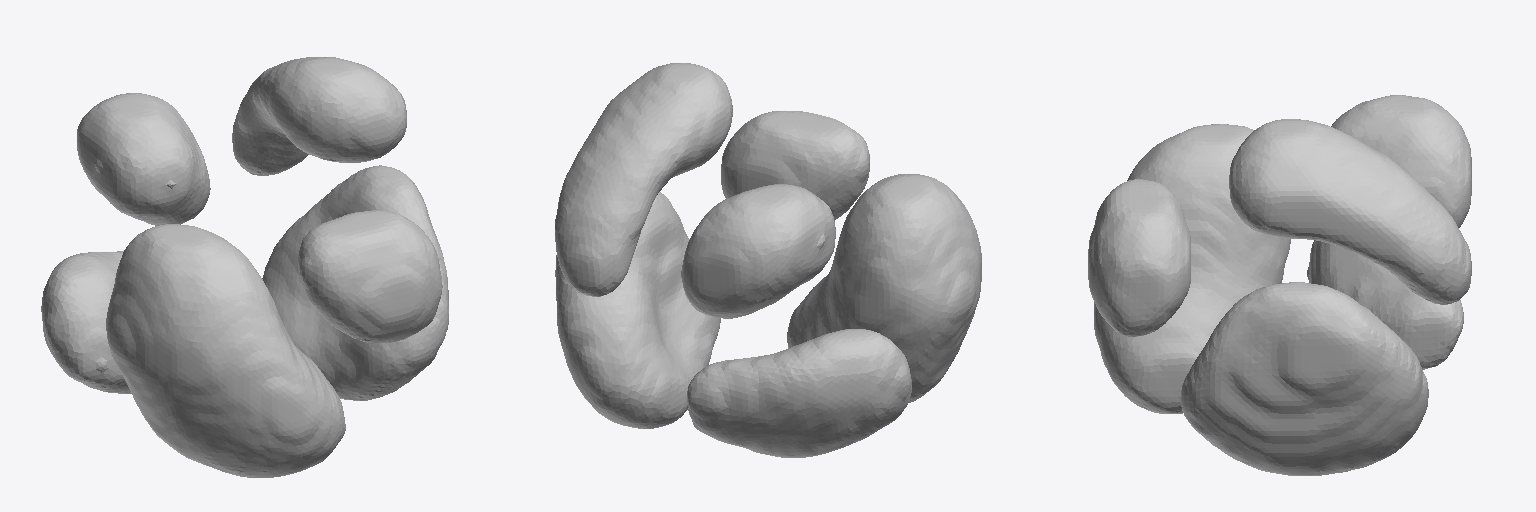
Rendered from iso-crop-mosaic_5.obj.
3 views of the same model, side by side, from view 1: azimuth 30°, elevation 25°; view 2: azimuth 150°, elevation 25°; view 3: azimuth 270°, elevation 25° (orthographic).
Parts seen in each view (by area): view 1: 1, 2, 6, 3, 5, 4; view 2: 1, 6, 2, 4, 5, 3; view 3: 2, 6, 1, 3, 5, 4.
Part boxes in pixels (x1,y1,x2,y2): 1: (106, 224, 345, 477); 2: (262, 165, 448, 400); 6: (232, 57, 406, 175); 3: (298, 210, 442, 342); 5: (77, 93, 210, 225); 4: (41, 251, 131, 393); 1: (787, 174, 981, 402); 6: (555, 63, 732, 296); 2: (555, 192, 720, 428); 4: (687, 329, 911, 457); 5: (681, 184, 835, 318); 3: (721, 111, 869, 220); 2: (1181, 282, 1428, 475); 6: (1229, 119, 1471, 304); 1: (1094, 124, 1290, 413); 3: (1088, 179, 1190, 336); 5: (1331, 95, 1471, 227); 4: (1307, 240, 1463, 369).
Bounding box in the file's own units: 55.17 × 50.85 × 52.76.